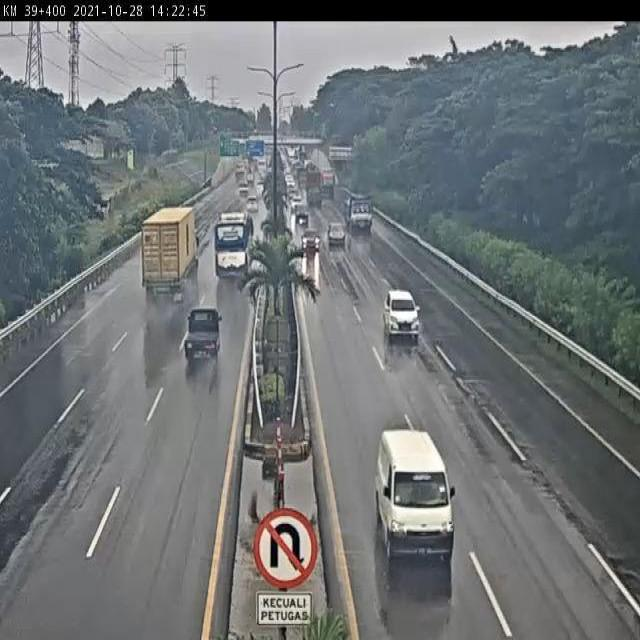bus-l-: (213, 206, 256, 282)
car: (182, 304, 225, 363)
truck-xl-: (142, 205, 205, 300)
